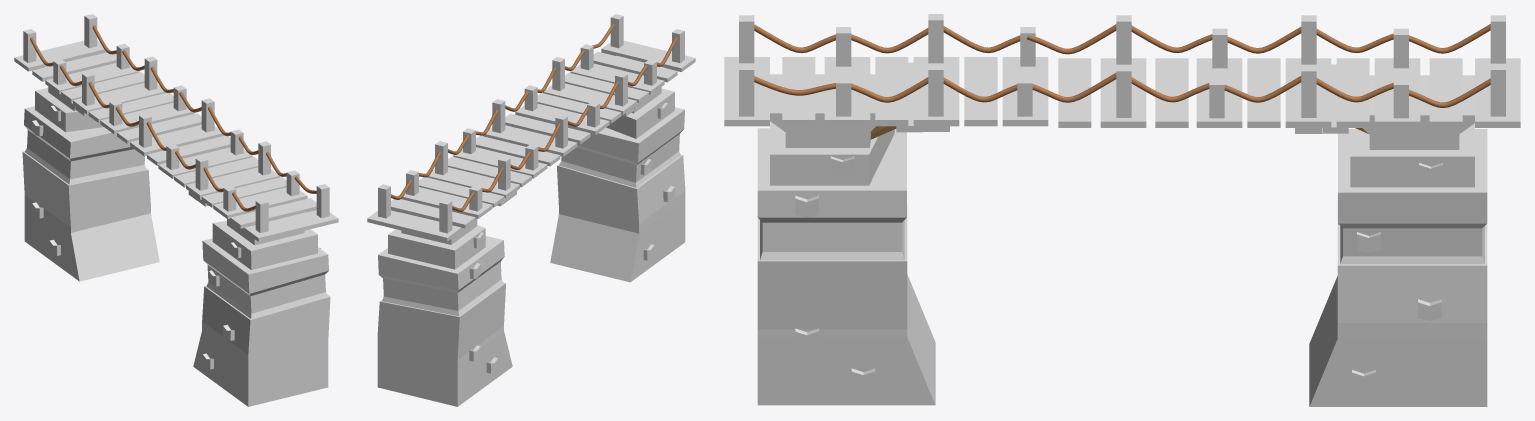
File: Bridge.fbx
The picture shows the model from 3 angles, left to right: view 1: azimuth 30°, elevation 25°; view 2: azimuth 150°, elevation 25°; view 3: azimuth 270°, elevation 25°; orthographic projection. The views are drawn at different scales.
Parts seen in each view (by area): view 1: BezierCurve.007; view 2: BezierCurve.007; view 3: BezierCurve.007.
Part boxes in pixels (bbox=[...]): BezierCurve.007: bbox=[14, 14, 338, 406]; BezierCurve.007: bbox=[367, 14, 695, 406]; BezierCurve.007: bbox=[724, 14, 1520, 406].
Size of the model in its own units: 223 by 490 by 1064.
